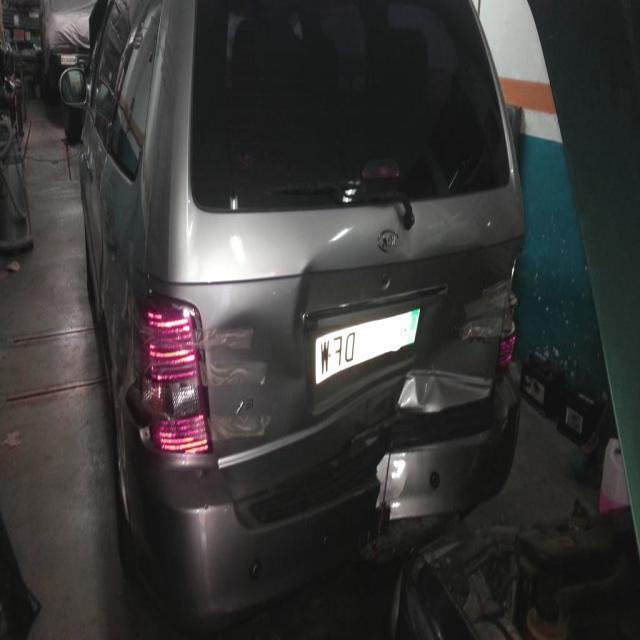minor: (204, 309, 276, 447)
moderate: (291, 226, 512, 414)
